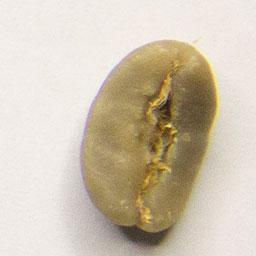longberry: (78, 35, 220, 236)
